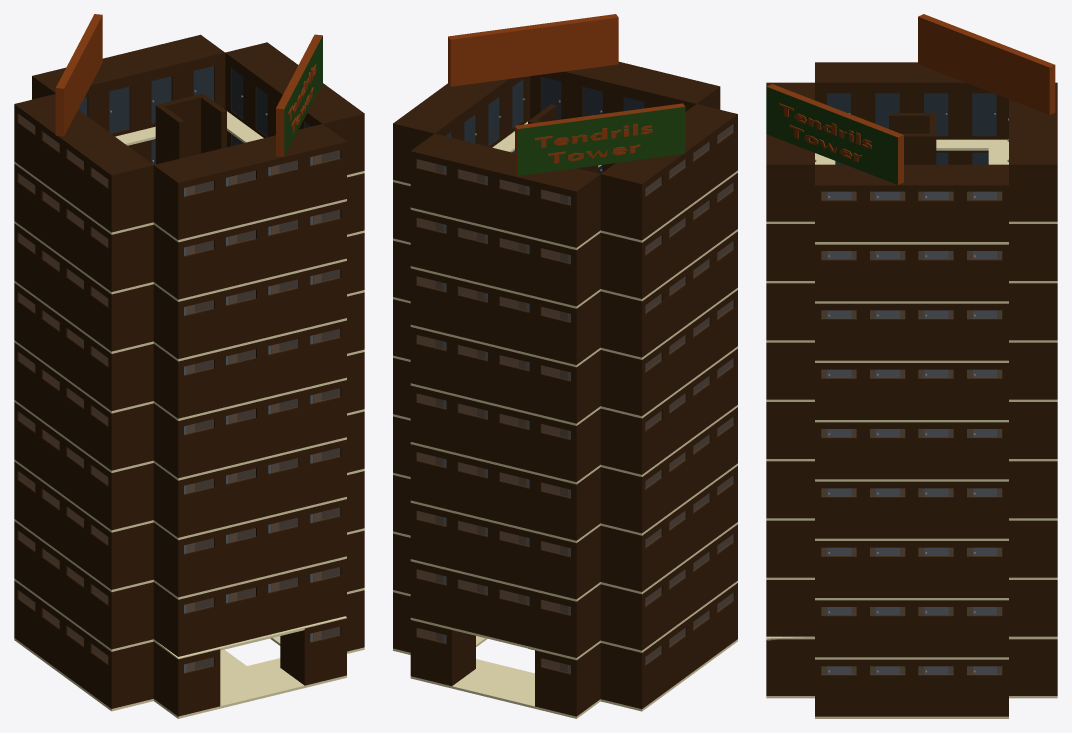
The model's file is Gourd Apartments 2.glb.
3 views of the same model, side by side, from view 1: azimuth 30°, elevation 25°; view 2: azimuth 150°, elevation 25°; view 3: azimuth 270°, elevation 25° (orthographic).
Visible parts, largest first — view 1: Floor.008, Floor.007, Floor.001, Floor.002, Floor.003, Floor.004, Floor.006, Floor.005, Floor, Signs, Elev Shaft; view 2: Floor.008, Floor.007, Floor.001, Floor.005, Floor.004, Floor.002, Floor.006, Floor.003, Floor, Signs; view 3: Floor.008, Floor.007, Floor.001, Floor.002, Floor.003, Floor.004, Floor.005, Floor.006, Floor, Signs, Elev Shaft.
Part boxes in pixels (bbox=[...]): Floor.008: bbox=[14, 34, 364, 242]; Floor.007: bbox=[14, 131, 364, 301]; Floor.001: bbox=[14, 521, 364, 659]; Floor.002: bbox=[14, 462, 364, 599]; Floor.003: bbox=[14, 402, 364, 540]; Floor.004: bbox=[14, 342, 364, 480]; Floor.006: bbox=[14, 223, 364, 361]; Floor.005: bbox=[14, 283, 364, 420]; Floor: bbox=[14, 581, 364, 718]; Signs: bbox=[55, 14, 322, 156]; Elev Shaft: bbox=[155, 93, 226, 164]; Floor.008: bbox=[393, 61, 737, 249]; Floor.007: bbox=[393, 150, 737, 308]; Floor.001: bbox=[393, 524, 737, 660]; Floor.005: bbox=[393, 290, 737, 425]; Floor.004: bbox=[393, 348, 737, 484]; Floor.002: bbox=[393, 466, 737, 601]; Floor.006: bbox=[393, 231, 737, 367]; Floor.003: bbox=[393, 407, 737, 542]; Floor: bbox=[393, 583, 737, 718]; Signs: bbox=[448, 14, 685, 175]; Floor.008: bbox=[766, 62, 1057, 244]; Floor.007: bbox=[766, 150, 1057, 303]; Floor.001: bbox=[766, 580, 1057, 659]; Floor.002: bbox=[766, 520, 1057, 600]; Floor.003: bbox=[766, 461, 1057, 540]; Floor.004: bbox=[766, 402, 1057, 481]; Floor.005: bbox=[766, 342, 1057, 422]; Floor.006: bbox=[766, 283, 1057, 362]; Floor: bbox=[766, 639, 1057, 718]; Signs: bbox=[766, 14, 1055, 184]; Elev Shaft: bbox=[889, 113, 936, 164].
Size of what is drawn, in the model's own units: 13.22 by 28.97 by 13.15.
